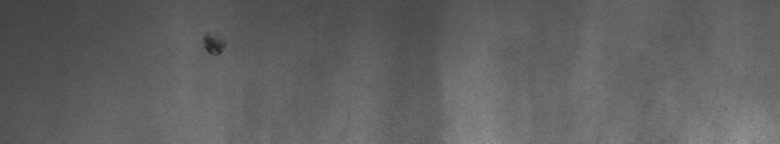fi: (200, 25, 230, 60)
